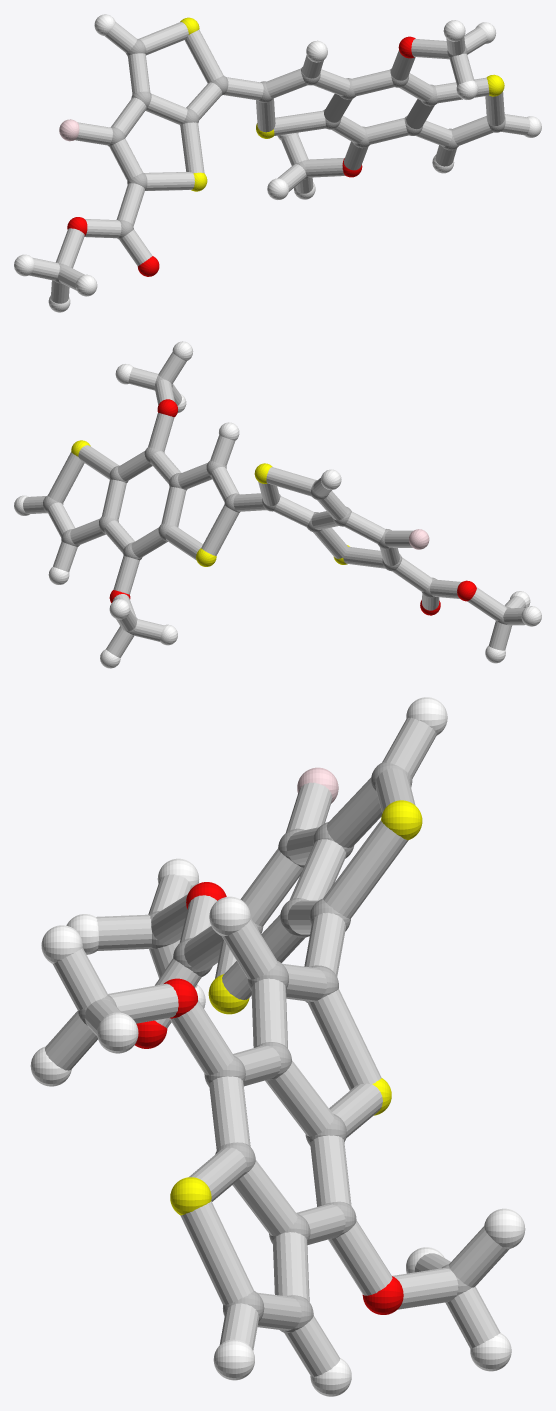
The model's file is Dimethoxy_Benzodithiophene_Phi_5_Theta_70_Methylcarbonyl_3_Fluoro_Thienothiophene.glb.
3 views of the same model, one above another, from view 1: azimuth 30°, elevation 25°; view 2: azimuth 150°, elevation 25°; view 3: azimuth 270°, elevation 25° (orthographic). The views are drawn at different scales.
Visible parts, largest first — view 1: grp15205, grp8689, grp1, grp13395, grp7241, grp14843; view 2: grp15205, grp8689, grp1, grp13395, grp7241; view 3: grp15205, grp8689, grp1, grp7241, grp13395.
Boxes of the visible parts, <box> form: grp15205: <box>29,22,530,303</box>; grp8689: <box>14,14,541,312</box>; grp1: <box>54,39,505,283</box>; grp13395: <box>67,36,415,276</box>; grp7241: <box>180,17,504,191</box>; grp14843: <box>59,119,79,141</box>; grp15205: <box>23,352,525,657</box>; grp8689: <box>14,341,541,668</box>; grp1: <box>43,375,510,634</box>; grp13395: <box>109,399,476,615</box>; grp7241: <box>71,440,349,566</box>; grp15205: <box>45,717,509,1376</box>; grp8689: <box>30,697,525,1396</box>; grp1: <box>78,762,472,1333</box>; grp7241: <box>170,800,422,1215</box>; grp13395: <box>135,882,403,1314</box>.
Bounding box in the file's own units: 17.09 × 7.61 × 7.16.
